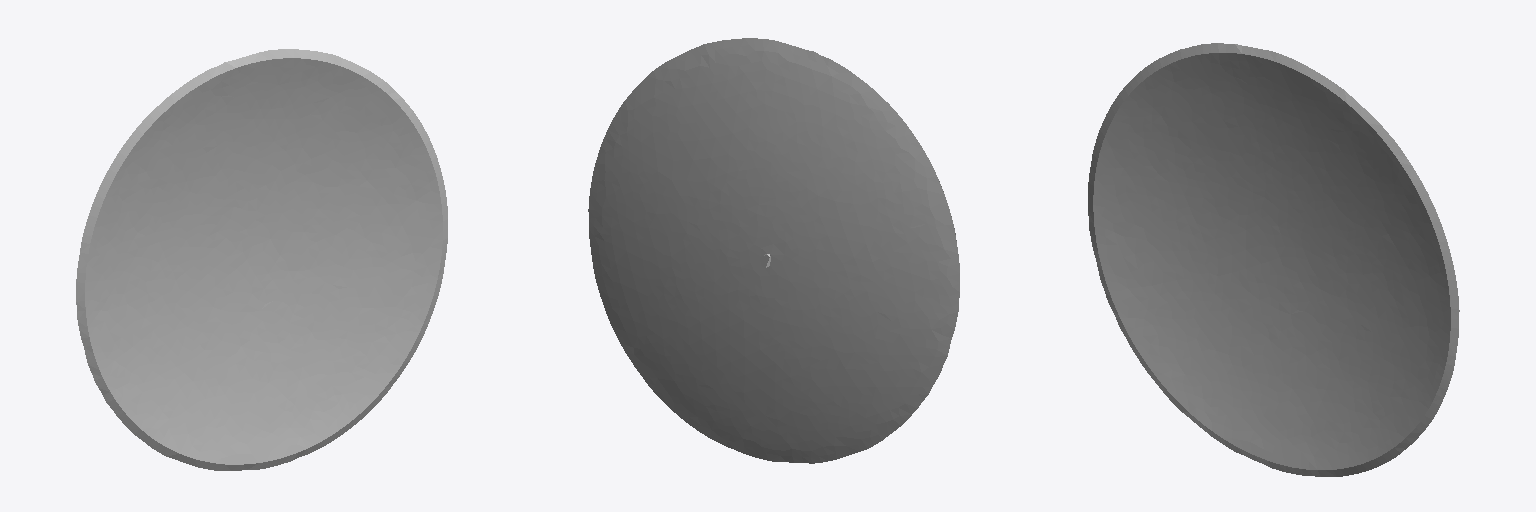
The model's file is Amulet_July_Disk_34.obj.
The picture shows the model from 3 angles: view 1: azimuth 30°, elevation 25°; view 2: azimuth 150°, elevation 25°; view 3: azimuth 330°, elevation 25°; orthographic projection.
Size of the model in its own units: 39.15 by 42.24 by 3.3.